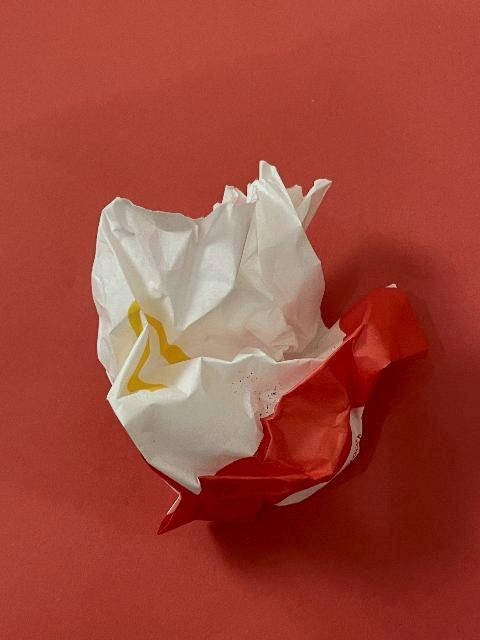paperbag: (89, 157, 431, 538)
